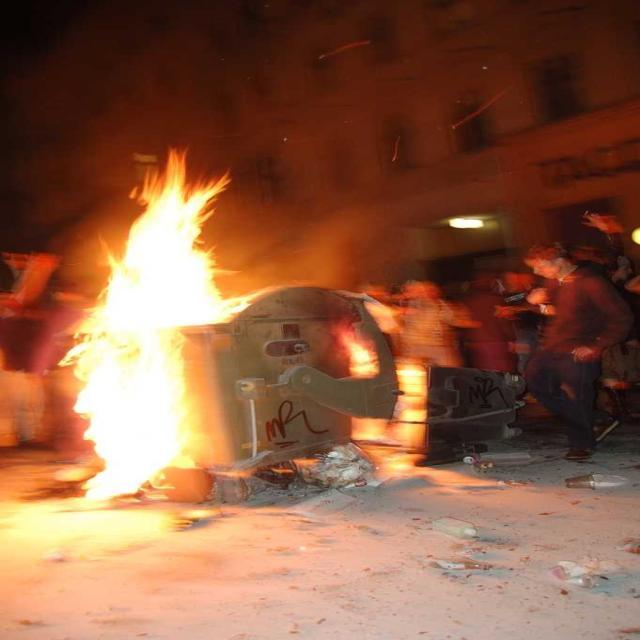Fire: (85, 325, 188, 483), (122, 190, 230, 324)
